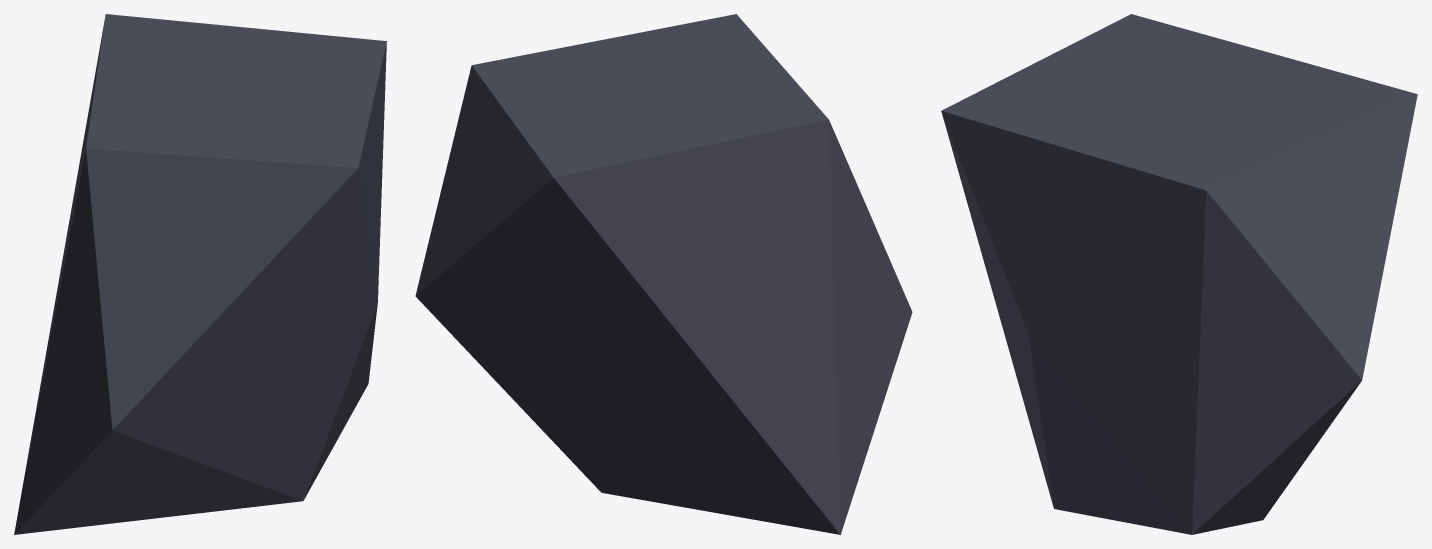
The model's file is foothold_rock.glb.
3 views of the same model, side by side, from view 1: azimuth 30°, elevation 25°; view 2: azimuth 150°, elevation 25°; view 3: azimuth 270°, elevation 25° (orthographic). The views are drawn at different scales.
Visible parts, largest first — view 1: FootholdRock; view 2: FootholdRock; view 3: FootholdRock.
Part boxes in pixels (box(x1,y1,x2,y2)): FootholdRock: box(14, 14, 386, 534); FootholdRock: box(415, 14, 912, 534); FootholdRock: box(941, 14, 1417, 534).
Bounding box in the file's own units: 1.73 × 1.74 × 1.75.
1 material, 1 textured.
